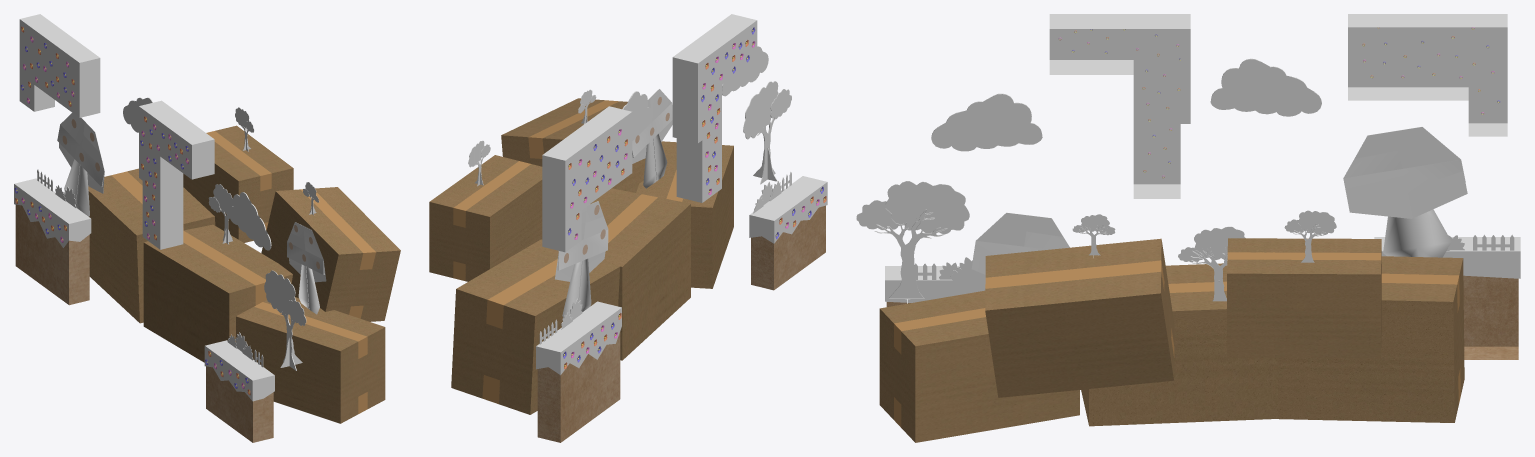
The model's file is Pantalla-4.5DEF.fbx.
3 renders of one model, left to right at view 1: azimuth 30°, elevation 25°; view 2: azimuth 150°, elevation 25°; view 3: azimuth 270°, elevation 25°, orthographic. The views are drawn at different scales.
Visible parts, largest first — view 1: Estructura Base, Caja_1.002, Cube, Caja_1.003, Caja_1, Caja_1.001, Plane.018, Arbol2.005, Plane.047, Florecilla.032, Nube.003, Arbol2.006 (+2 smaller); view 2: Estructura Base, Caja_1, Caja_1.001, Cube, Caja_1.002, Caja_1.003, Plane.018, Plane.047, Arbol2.005, Florecilla.032, Nube.003, Arbol2.006 (+2 smaller); view 3: Estructura Base, Caja_1.003, Caja_1, Caja_1.001, Caja_1.002, Cube, Plane.018, Arbol2.005, Nube.003, Nube.002, Plane.047, Arbol2.006 (+1 smaller).
Boxes of the visible parts, x1,y1,x2,y2 form: Estructura Base: (14, 14, 274, 442); Caja_1.002: (236, 297, 385, 423); Cube: (143, 224, 292, 362); Caja_1.003: (261, 187, 400, 321); Caja_1: (88, 168, 215, 323); Caja_1.001: (183, 125, 293, 242); Plane.018: (57, 113, 104, 216); Arbol2.005: (208, 107, 319, 325); Plane.047: (287, 222, 326, 314); Florecilla.032: (14, 26, 250, 395); Nube.003: (229, 192, 271, 250); Arbol2.006: (220, 125, 316, 370); Estructura Base: (536, 14, 827, 442); Caja_1: (451, 239, 619, 414); Caja_1.001: (429, 155, 542, 281); Cube: (592, 188, 690, 360); Caja_1.002: (636, 141, 733, 288); Caja_1.003: (501, 98, 645, 204); Plane.018: (555, 201, 608, 318); Plane.047: (632, 89, 672, 188); Arbol2.005: (468, 81, 791, 167); Florecilla.032: (563, 27, 826, 369); Nube.003: (722, 46, 768, 96); Arbol2.006: (474, 102, 777, 186); Estructura Base: (885, 14, 1520, 359); Caja_1.003: (985, 238, 1174, 397); Caja_1: (1277, 256, 1464, 422); Caja_1.001: (1227, 238, 1381, 358); Caja_1.002: (879, 290, 1079, 442); Cube: (1081, 263, 1278, 426); Plane.018: (1343, 127, 1467, 257); Arbol2.005: (856, 181, 1336, 262); Nube.003: (931, 93, 1042, 151); Nube.002: (1210, 58, 1321, 116); Plane.047: (971, 212, 1069, 274); Arbol2.006: (874, 209, 1325, 303).
Bounding box in the file's own units: 3781 × 4828 × 8626.
